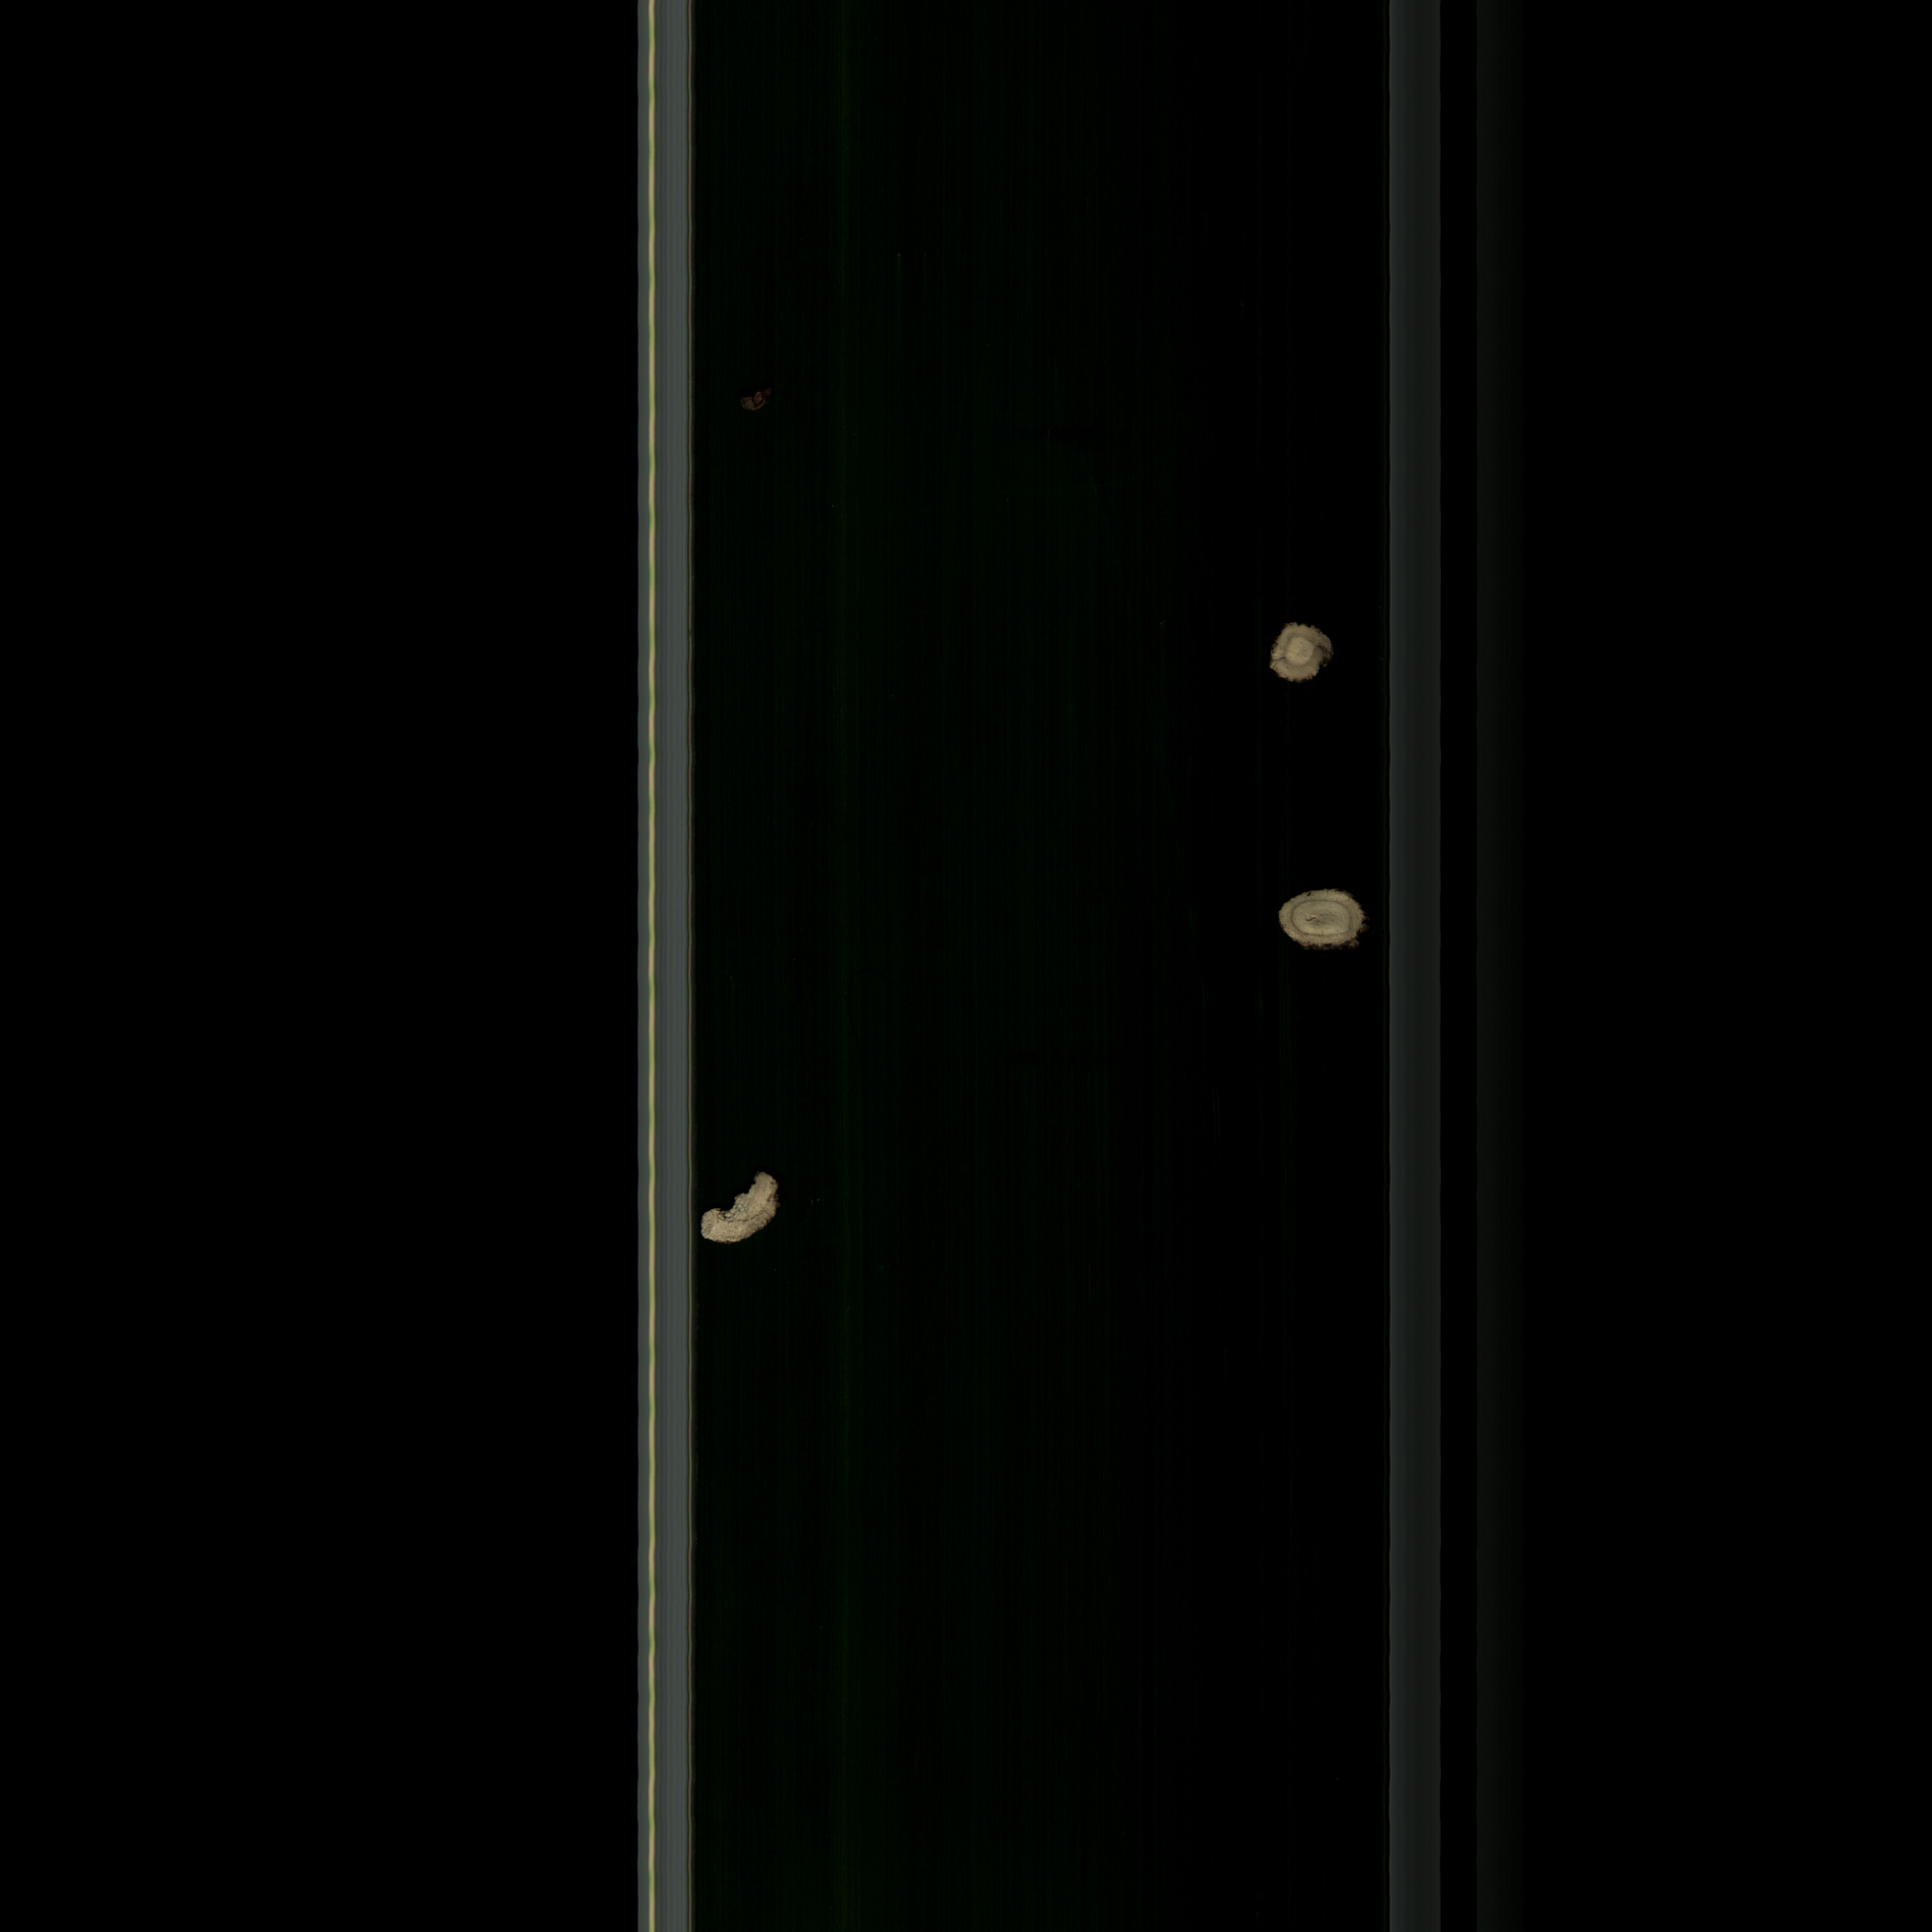debris: (699, 1166, 793, 1251)
moldy: (1260, 614, 1338, 695)
